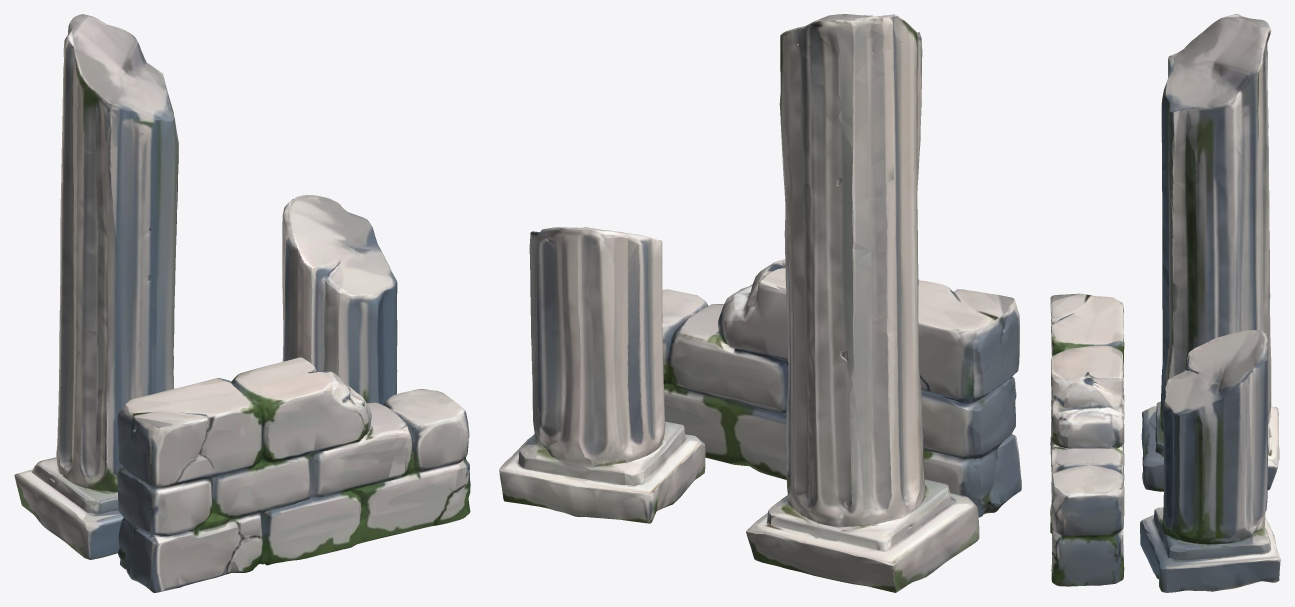
The model's file is ruins_pillar.glb.
3 renders of one model, left to right at view 1: azimuth 30°, elevation 25°; view 2: azimuth 150°, elevation 25°; view 3: azimuth 270°, elevation 25°, orthographic. The views are drawn at different scales.
Parts seen in each view (by area): view 1: geometry_0; view 2: geometry_0; view 3: geometry_0.
Part boxes in pixels (x1,y1,x2,y2): geometry_0: (14, 14, 470, 592); geometry_0: (499, 14, 1021, 592); geometry_0: (1050, 14, 1280, 592).
Bounding box in the file's own units: 1.91 × 2.5 × 1.18.
1 material, 1 textured.
